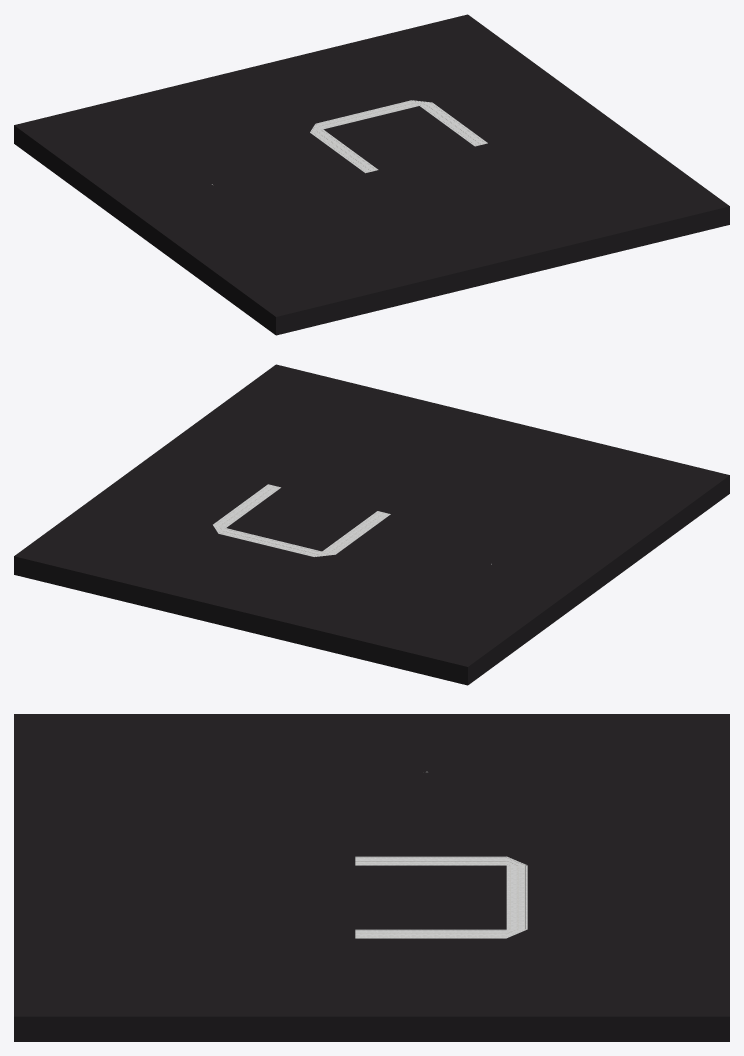
3 renders of one model, top to bottom at view 1: azimuth 30°, elevation 25°; view 2: azimuth 150°, elevation 25°; view 3: azimuth 270°, elevation 25°, orthographic. The views are drawn at different scales.
Visible parts, largest first — view 1: Baseplate1, Part20, Part13, Part6; view 2: Baseplate1, Part20, Part6, Part13; view 3: Baseplate1, Part6, Part13, Part20.
Boxes of the visible parts, left/top/right/bottom form: Baseplate1: left=14, top=14, right=729, bottom=335; Part20: left=317, top=101, right=417, bottom=128; Part13: left=311, top=129, right=376, bottom=172; Part6: left=421, top=103, right=486, bottom=145; Baseplate1: left=14, top=364, right=729, bottom=685; Part20: left=220, top=528, right=320, bottom=556; Part6: left=214, top=484, right=279, bottom=527; Part13: left=324, top=511, right=388, bottom=554; Baseplate1: left=14, top=714, right=729, bottom=1041; Part6: left=355, top=930, right=506, bottom=937; Part13: left=355, top=857, right=506, bottom=864; Part20: left=509, top=865, right=525, bottom=929.
Size of the model in its own units: 512 by 20.35 by 512.
5 materials, 4 textured.
